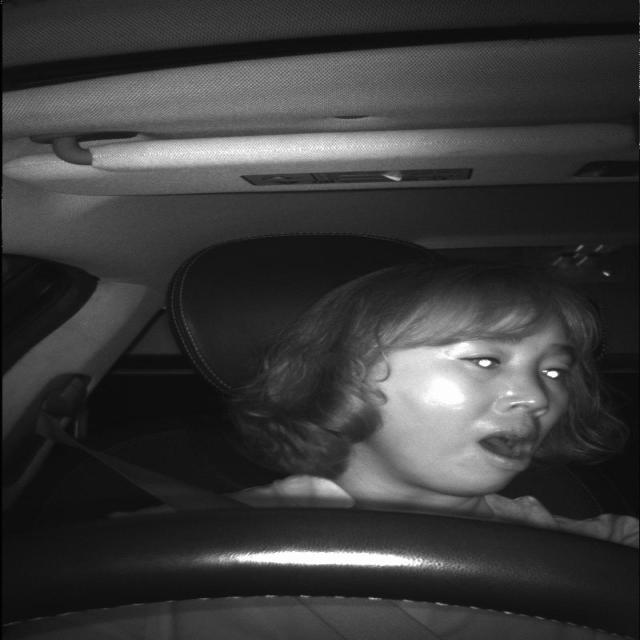Inattentive: (313, 264, 621, 504)
